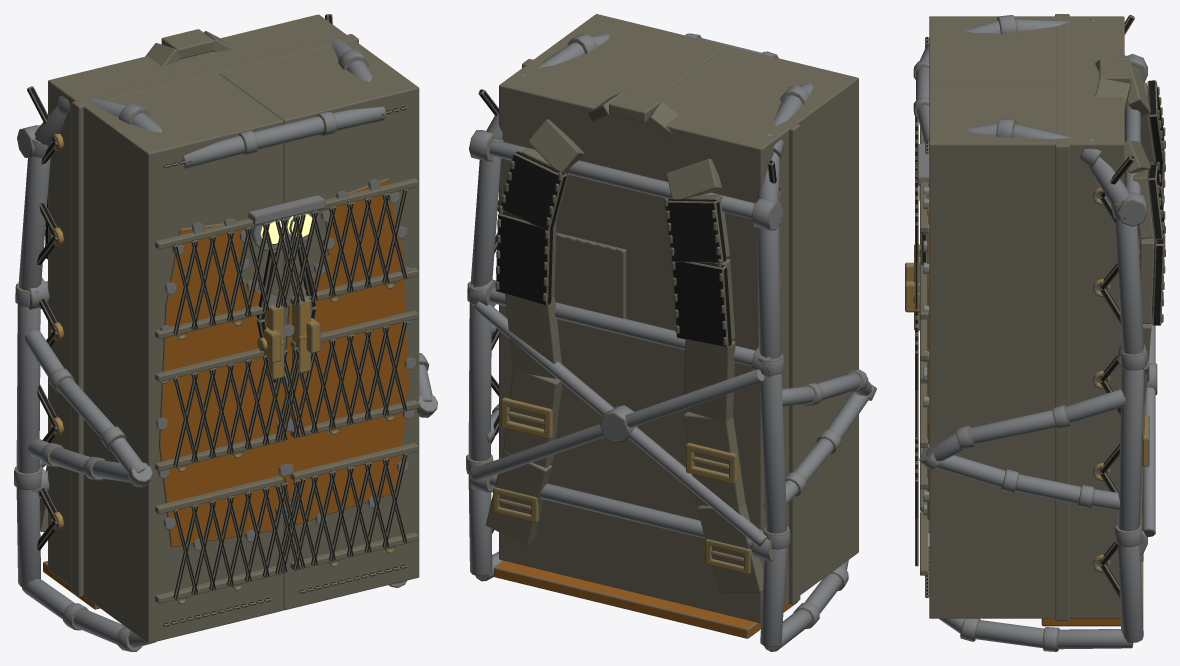
Rendered from field_backpack.fbx.
3 views of the same model, side by side, from view 1: azimuth 30°, elevation 25°; view 2: azimuth 150°, elevation 25°; view 3: azimuth 270°, elevation 25° (orthographic). The views are drawn at different scales.
Parts seen in each view (by area): view 1: Mesh_Backpack_DoorL, Mesh_Backpack_DoorR, Mesh_Backpack_Frame, Mesh_Backpack_Latch_L, Mesh_Backpack_Latch_R; view 2: Mesh_Backpack_Frame, Mesh_Backpack_DoorL, Mesh_Backpack_DoorR; view 3: Mesh_Backpack_Frame, Mesh_Backpack_DoorR, Mesh_Backpack_DoorL, Mesh_Backpack_Latch_R, Mesh_Backpack_Latch_L.
Boxes of the visible parts, x1,y1,x2,y2 form: Mesh_Backpack_DoorL: (83, 73, 416, 643); Mesh_Backpack_DoorR: (155, 40, 419, 610); Mesh_Backpack_Frame: (14, 14, 437, 651); Mesh_Backpack_Latch_L: (248, 201, 297, 382); Mesh_Backpack_Latch_R: (277, 195, 325, 376); Mesh_Backpack_Frame: (466, 33, 876, 651); Mesh_Backpack_DoorL: (665, 46, 858, 594); Mesh_Backpack_DoorR: (534, 14, 727, 91); Mesh_Backpack_Frame: (913, 14, 1165, 651); Mesh_Backpack_DoorR: (915, 80, 1055, 618); Mesh_Backpack_DoorL: (915, 16, 1055, 533); Mesh_Backpack_Latch_R: (905, 163, 929, 330); Mesh_Backpack_Latch_L: (905, 144, 929, 282).
Size of the model in its own units: 88.77 by 136 by 62.68.
